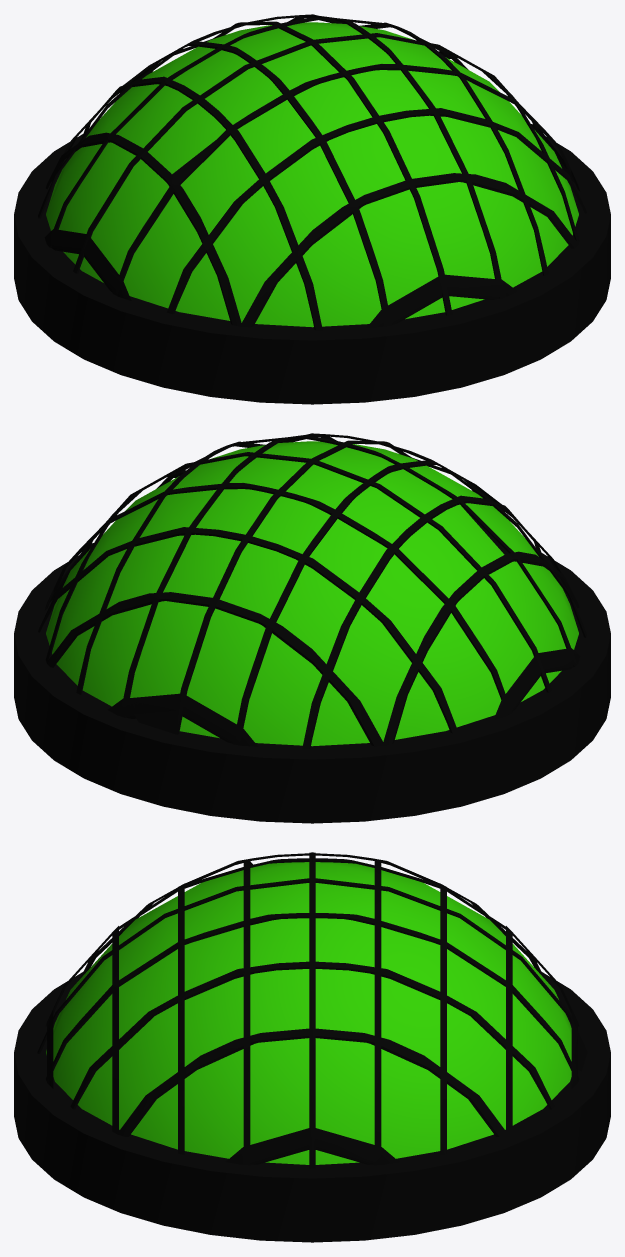
Rendered from Light.fbx.
3 views of the same model, one above another, from view 1: azimuth 30°, elevation 25°; view 2: azimuth 150°, elevation 25°; view 3: azimuth 270°, elevation 25° (orthographic).
Parts seen in each view (by area): view 1: Boole_1, Cylinder, Boole_2; view 2: Boole_1, Cylinder, Boole_2; view 3: Boole_1, Cylinder, Boole_2.
Part boxes in pixels (left/top/right/bottom): Boole_1: left=46, top=22, right=578, bottom=327; Cylinder: left=14, top=134, right=610, bottom=404; Boole_2: left=38, top=14, right=586, bottom=330; Boole_1: left=46, top=441, right=578, bottom=746; Cylinder: left=14, top=553, right=610, bottom=823; Boole_2: left=38, top=433, right=586, bottom=749; Boole_1: left=46, top=862, right=571, bottom=1164; Cylinder: left=14, top=972, right=610, bottom=1242; Boole_2: left=37, top=852, right=587, bottom=1168.
Size of the model in its own units: 20.63 by 9.05 by 20.63.
